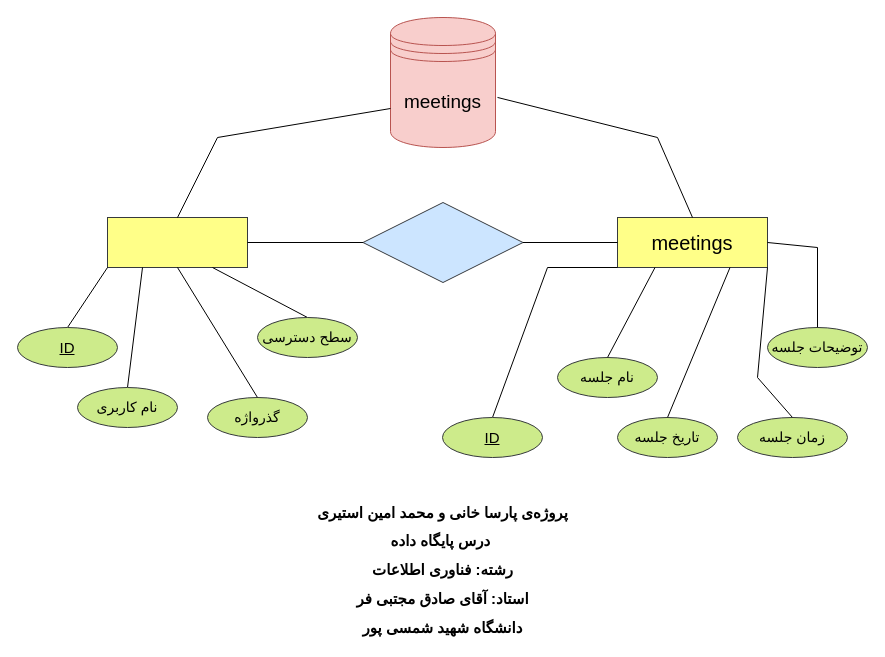
Image size: 885x657. Some labels were removed from this diagram. Here are the shapes that lost their labels. From the top down, the box of each, then its label:
(106, 216, 248, 268): users
(362, 202, 523, 282): حذف، اضافه ومدیریت جلسات
